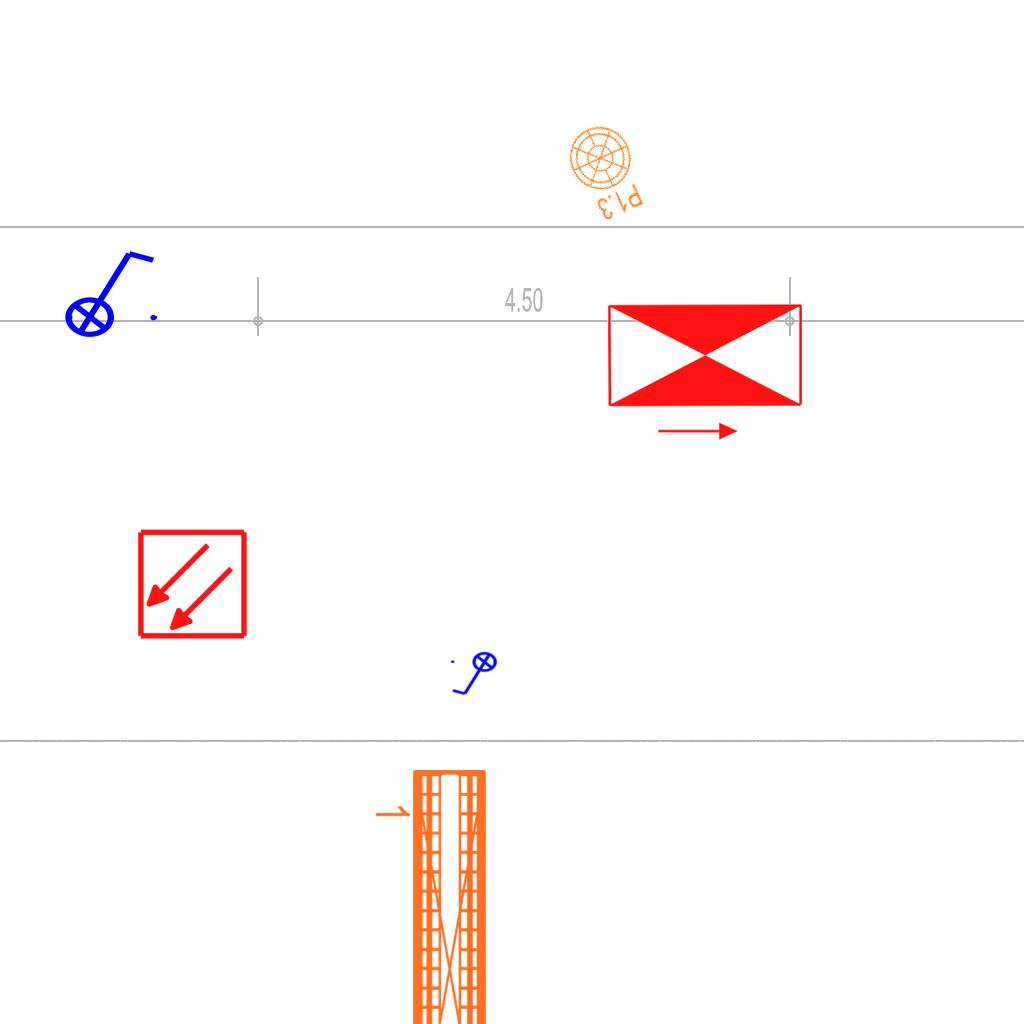Aufbaurundleuchte_LED_Treppenhaus: (552, 114, 658, 237)
Ausschalter_beleuchtet: (51, 243, 163, 339), (448, 651, 504, 699)
Buero_Pendelleuchten_LED: (366, 763, 496, 1024)
Fluchtwegpiktogramm: (601, 298, 809, 445)
RMO_Rauchmelder_optischer: (136, 528, 249, 641)
